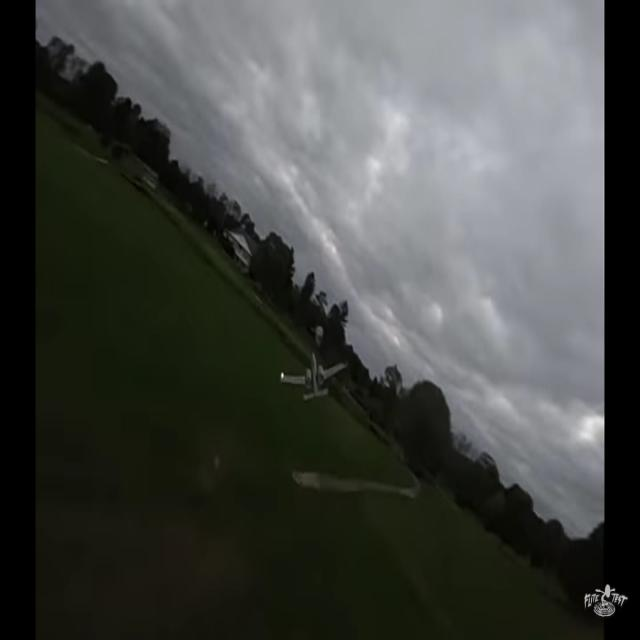iha: (311, 351, 316, 402)
